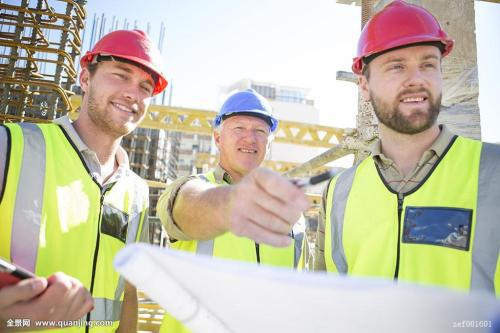helmet: (341, 1, 469, 139), (65, 20, 181, 141), (205, 76, 287, 178)
